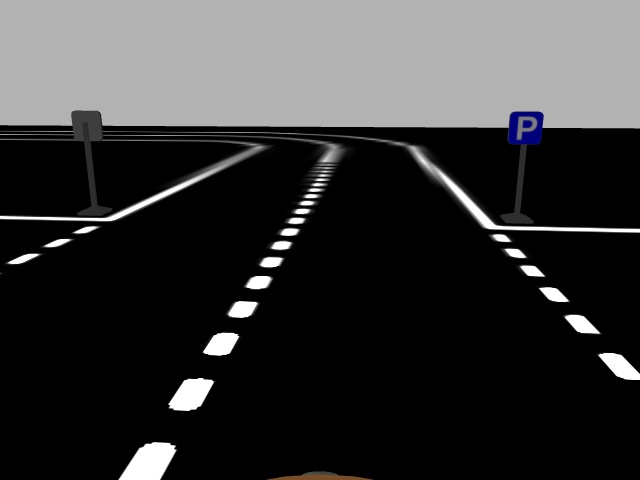parking: (507, 110, 543, 144)
